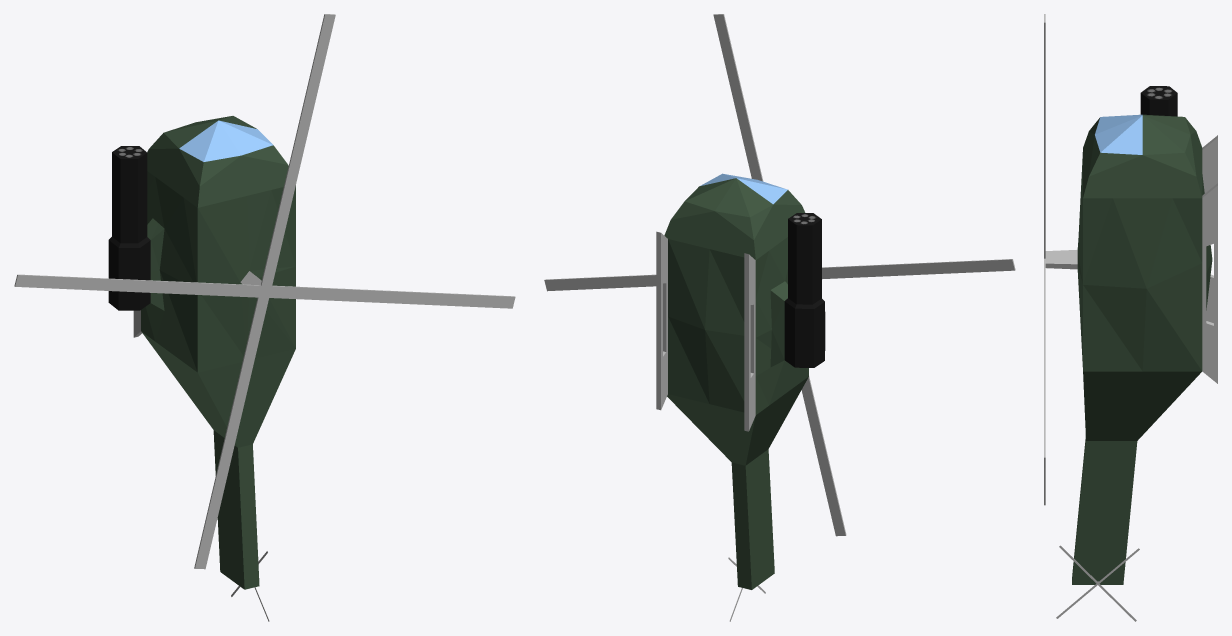
The model's file is enemy1-2.obj.
3 views of the same model, side by side, from view 1: azimuth 30°, elevation 25°; view 2: azimuth 150°, elevation 25°; view 3: azimuth 270°, elevation 25° (orthographic). The views are drawn at different scales.
Visible parts, largest first — view 1: Cube; view 2: Cube; view 3: Cube.
Part boxes in pixels (box(x1,y1,x2,y2)): Cube: box(14, 14, 515, 621); Cube: box(544, 14, 1015, 621); Cube: box(1044, 14, 1217, 621).
Bounding box in the file's own units: 12.69 × 14.59 × 3.63.
Materials: 1 (1 with a texture image).
